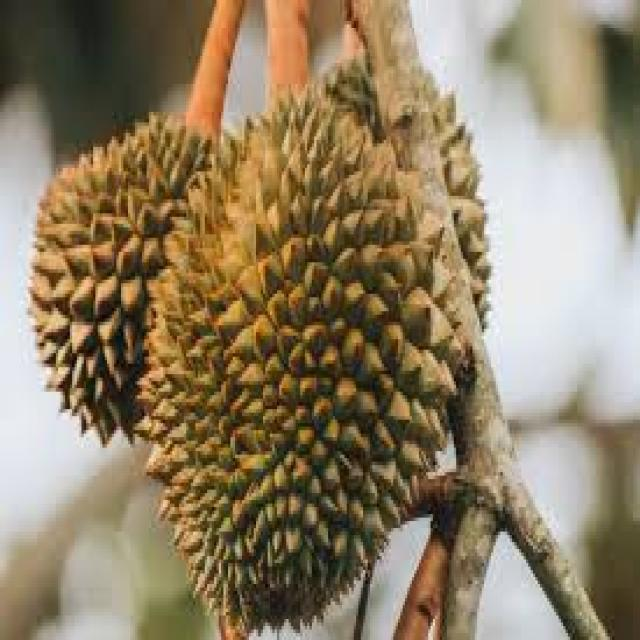mature: (139, 54, 491, 630), (30, 104, 235, 452)
